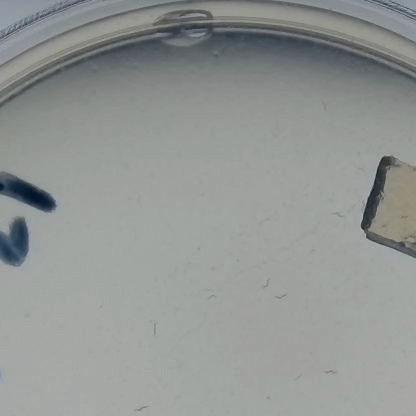worm: (190, 286, 222, 309), (141, 320, 165, 350), (268, 288, 293, 304), (327, 206, 347, 224), (283, 374, 304, 391), (252, 277, 275, 292), (254, 214, 273, 232), (322, 365, 345, 379), (129, 404, 154, 416), (315, 100, 335, 113)
